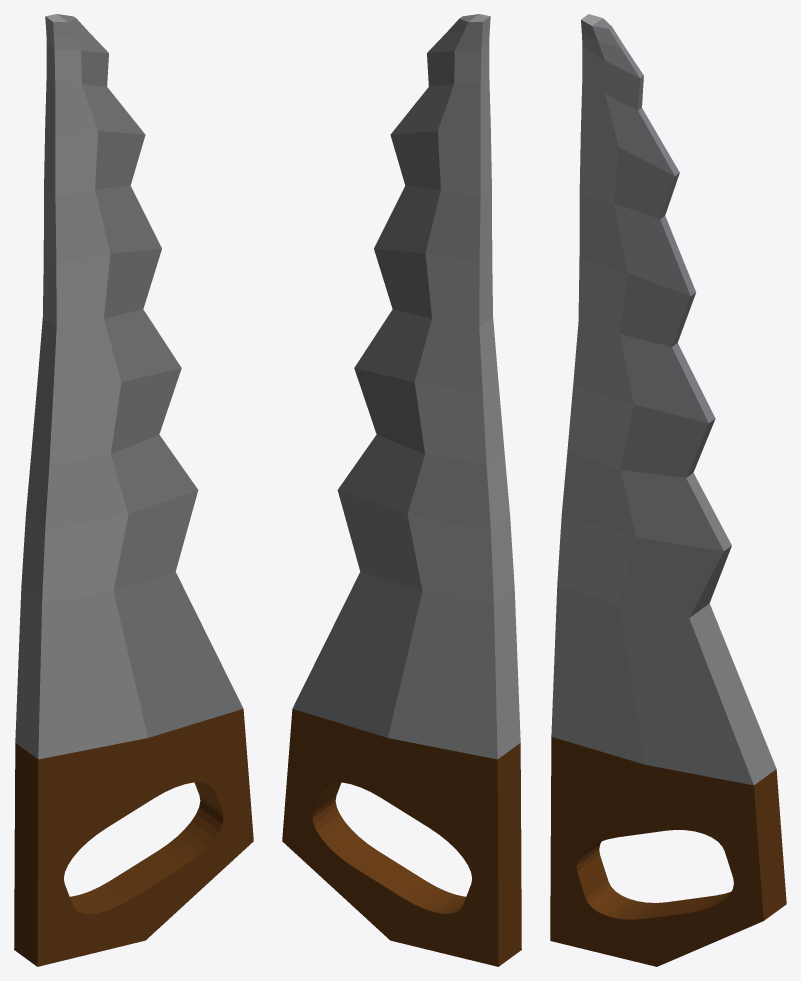
File: Serra_sAnima.fbx
3 renders of one model, left to right at view 1: azimuth 30°, elevation 25°; view 2: azimuth 150°, elevation 25°; view 3: azimuth 330°, elevation 25°, orthographic.
Visible parts, largest first — view 1: Plane; view 2: Plane; view 3: Plane.
Boxes of the visible parts, bbox=[...] form: Plane: bbox=[14, 14, 253, 966]; Plane: bbox=[282, 14, 521, 966]; Plane: bbox=[550, 14, 786, 966].
Bounding box in the file's own units: 50.51 × 208 × 15.11.
